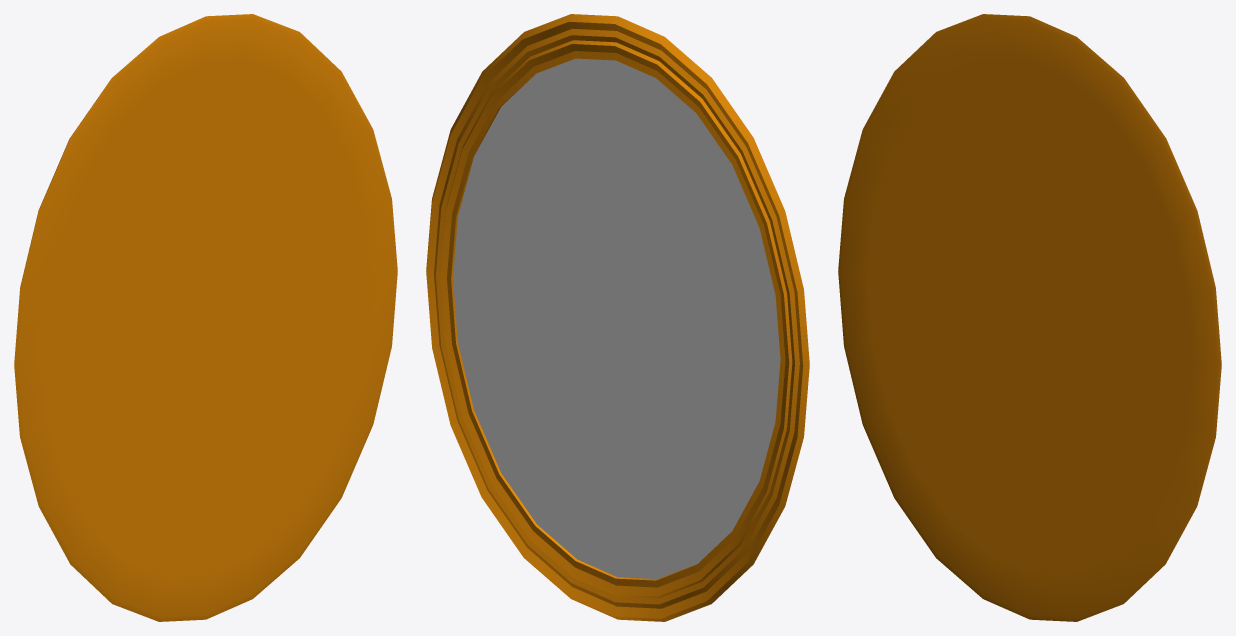
The model's file is Oval mirror fizxed.fbx.
3 views of the same model, side by side, from view 1: azimuth 30°, elevation 25°; view 2: azimuth 150°, elevation 25°; view 3: azimuth 330°, elevation 25° (orthographic).
Parts seen in each view (by area): view 1: Mirror; view 2: Mirror; view 3: Mirror.
Boxes of the visible parts, box(x1,y1,x2,y2) form: Mirror: box(14, 14, 397, 621); Mirror: box(426, 14, 809, 621); Mirror: box(838, 14, 1221, 621).
Bounding box in the file's own units: 30.64 × 46.04 × 0.5358.
